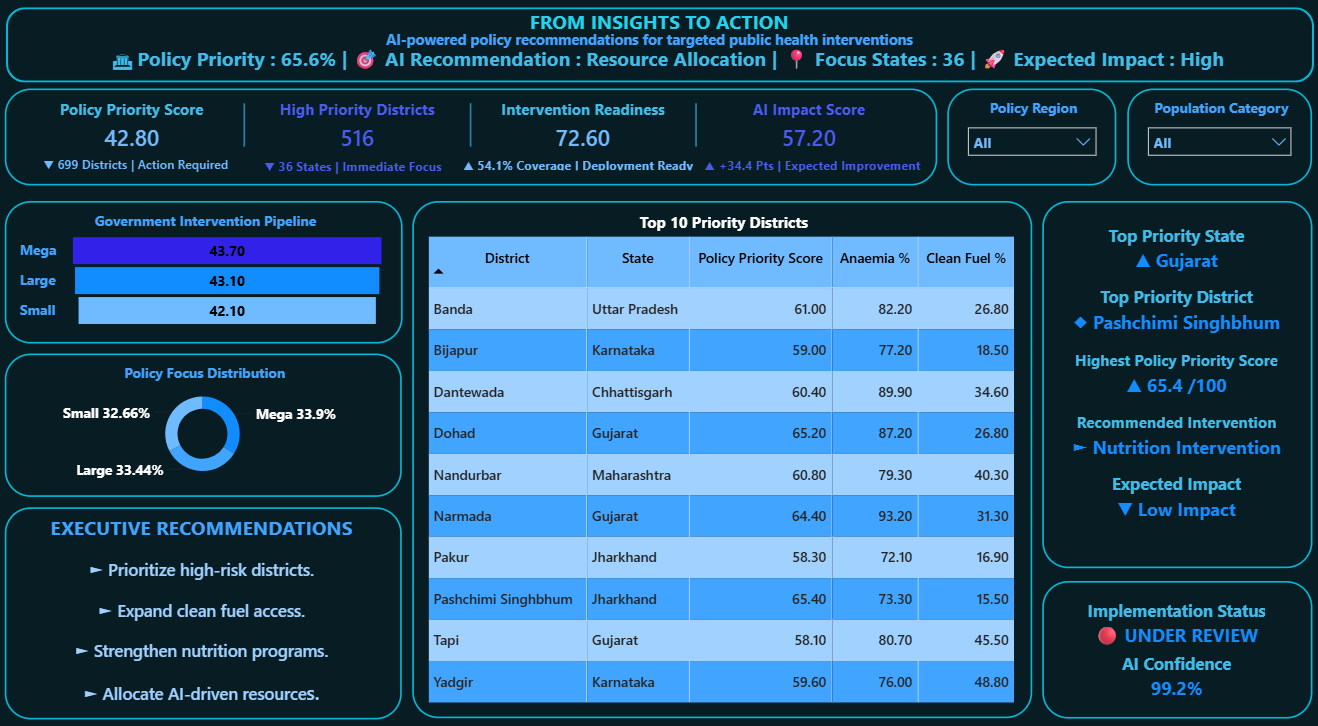

The dashboard page shown, as its layout file describes it:
{"tool":"powerbi","page":{"name":"Page 5","canvas":[1280,720],"ordinal":4},"visuals":[{"type":"textbox","box":[9.6,12.3,1261.1,39.8],"z":0},{"type":"cardVisual","fields":{"Data":["page 5.Page5_Info_Bar"]},"box":[17.8,12.3,1262.4,105.7],"z":1000},{"type":"shape","box":[9.6,15.1,1262.4,72.7],"z":2000},{"type":"cardVisual","fields":{"Data":["page 5.Policy Priority Score","page 5.High Priority Districts","page 5.Intervention Readiness","page 5.AI Impact Score"]},"box":[8.2,94.7,900.2,93.3],"z":3000},{"type":"cardVisual","fields":{"Data":["page 5.Policy Priority Subtitle"]},"box":[17.8,130.4,234.6,72.7],"z":4000},{"type":"cardVisual","fields":{"Data":["page 5.Priority District Subtitle"]},"box":[231.9,127.6,226.4,79.6],"z":5000},{"type":"cardVisual","fields":{"Data":["page 5.Readiness Subtitle"]},"box":[424,146.8,277.2,39.8],"z":6000},{"type":"cardVisual","fields":{"Data":["page 5.Impact Subtitle"]},"box":[640.8,145.5,295,42.5],"z":7000},{"type":"slicer","title":"Policy Region","fields":{"Values":["Dim_District_Profile.State"]},"box":[918,94.7,163.3,93.3],"z":8000},{"type":"slicer","title":"Population Category","fields":{"Values":["Dim_District_Profile.Population Category"]},"box":[1092.3,94.7,178.4,93.3],"z":9000},{"type":"funnel","title":"Government Intervention Pipeline","fields":{"Category":["Dim_District_Profile.Population Category"],"Y":["page 5.Policy Priority Score"]},"box":[8.2,203.1,384.2,137.2],"z":10000},{"type":"donutChart","title":"Policy Focus Distribution","fields":{"Category":["Dim_District_Profile.Population Category"],"Y":["page 5.Policy Priority Score"]},"box":[8.2,349.9,382.8,138.6],"z":11000},{"type":"cardVisual","fields":{"Data":["page 5.Top Priority State","page 5.Top Priority District","page 5.Highest Policy Priority Score","page 5.Recommended Intervention","page 5.Expected Impact"]},"box":[1010,203.1,260.7,354],"z":12000},{"type":"tableEx","title":"Top 10 Priority Districts","fields":{"Values":["Dim_District_Profile.District","Dim_District_Profile.State","page 5.Policy Priority Score","Measure.Anaemia %","Measure.Clean Fuel %"]},"box":[402.1,203.1,598.3,499.5],"z":13000},{"type":"textbox","box":[9.6,32.9,1241.9,37],"z":14000},{"type":"textbox","box":[8.2,498.1,382.8,204.5],"z":15000},{"type":"cardVisual","fields":{"Data":["page 5.Implementation Status","page 5.AI Confidence"]},"box":[1010,569.5,260.7,133.1],"z":16000}]}

Visuals, with their boxes in screenshot pixels (x1, y1, x2, y2), scaled from the page's 1280x720 canvas onto the 1318x726 screenshot:
textbox: 10 12 1308 53
cardVisual - page 5.Page5_Info_Bar: 18 12 1317 119
shape: 10 15 1310 89
cardVisual - page 5.Policy Priority Score x page 5.High Priority Districts: 8 95 935 190
cardVisual - page 5.Policy Priority Subtitle: 18 131 260 205
cardVisual - page 5.Priority District Subtitle: 239 129 472 209
cardVisual - page 5.Readiness Subtitle: 437 148 722 188
cardVisual - page 5.Impact Subtitle: 660 147 964 190
"Policy Region" slicer: 945 95 1113 190
"Population Category" slicer: 1125 95 1308 190
"Government Intervention Pipeline" funnel: 8 205 404 343
"Policy Focus Distribution" donutChart: 8 353 403 493
cardVisual - page 5.Top Priority State x page 5.Top Priority District: 1040 205 1308 562
"Top 10 Priority Districts" tableEx: 414 205 1030 708
textbox: 10 33 1289 70
textbox: 8 502 403 708
cardVisual - page 5.Implementation Status x page 5.AI Confidence: 1040 574 1308 708
